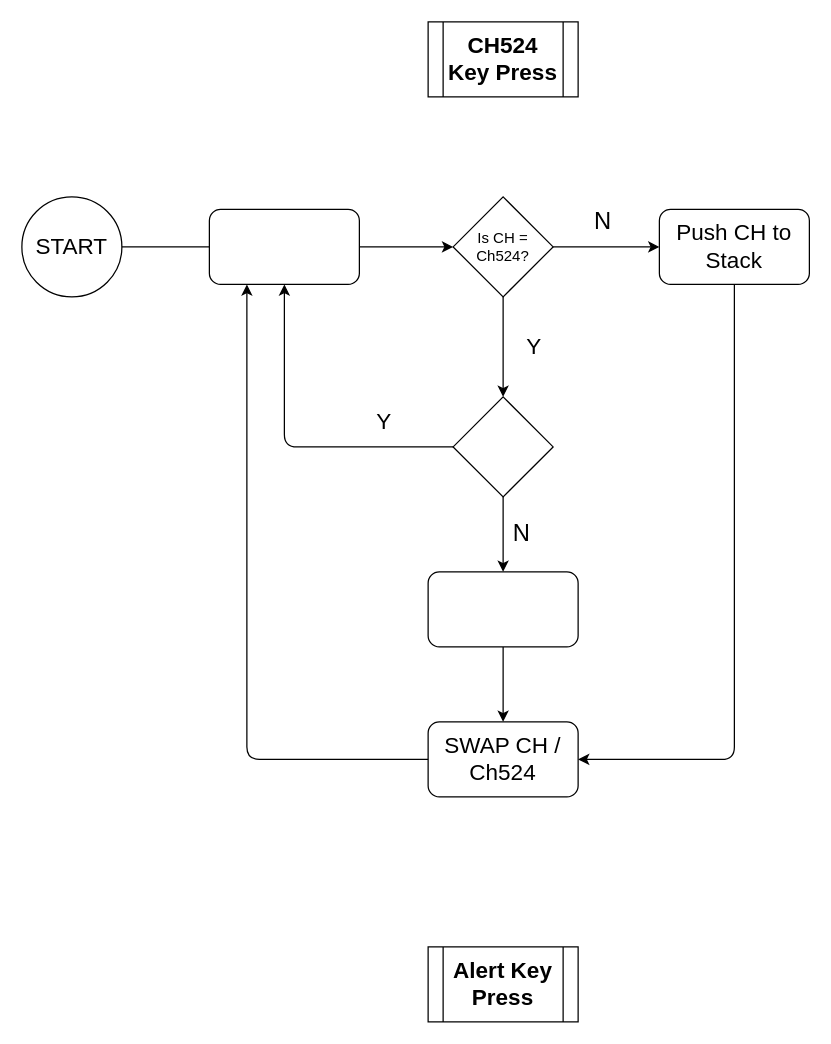
The diagram is 831 pixels wide and 1044 high, and some of its shapes have lost their labels. The box of each missing label's shape, as (x1, y1, x2, y2) in pixels:
Is Stack empty?: (452, 396, 553, 497)
POP CH from Stack: (427, 571, 578, 647)
RX Mode: (208, 208, 359, 284)
